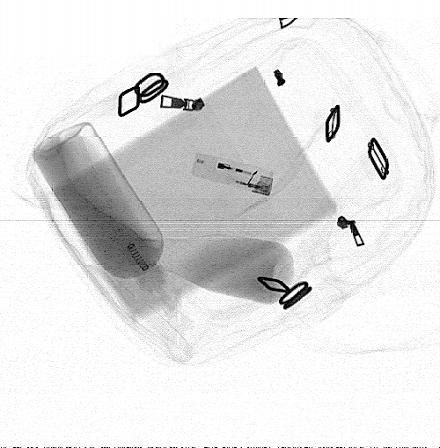Lighter: (192, 152, 274, 197)
